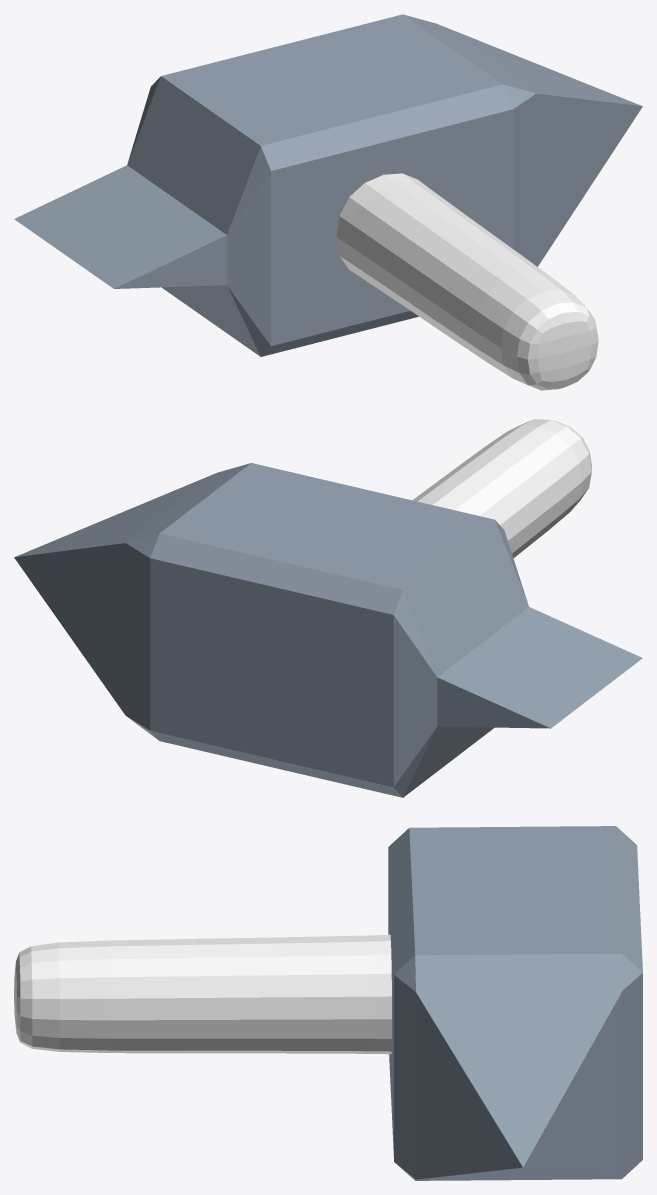
File: Sharp_hammer-1.fbx
3 views of the same model, one above another, from view 1: azimuth 30°, elevation 25°; view 2: azimuth 150°, elevation 25°; view 3: azimuth 270°, elevation 25° (orthographic). The views are drawn at different scales.
Visible parts, largest first — view 1: Cube.238; view 2: Cube.238; view 3: Cube.238.
Boxes of the visible parts, <box> form: Cube.238: <box>14,14,642,390</box>; Cube.238: <box>14,419,642,797</box>; Cube.238: <box>14,826,642,1180</box>.
Bounding box in the file's own units: 29.12 × 10 × 25.26.
